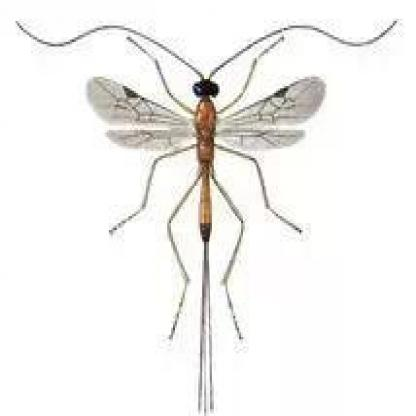sawfly: (7, 12, 400, 416)
